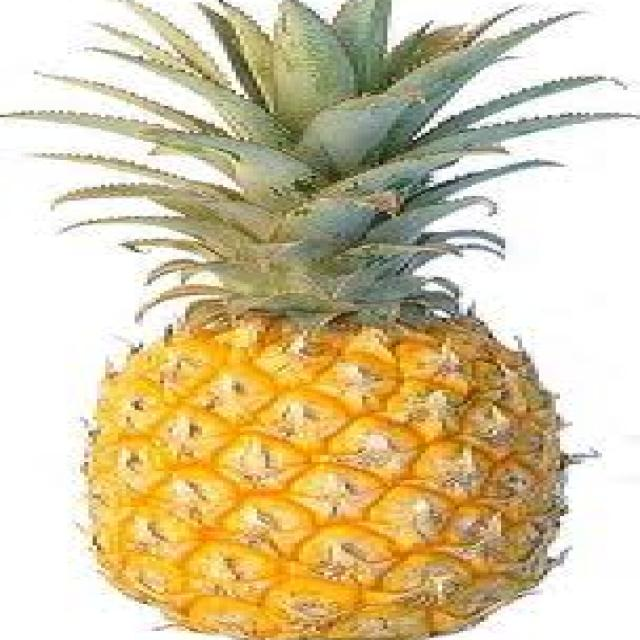pineapple: (13, 0, 623, 640)
